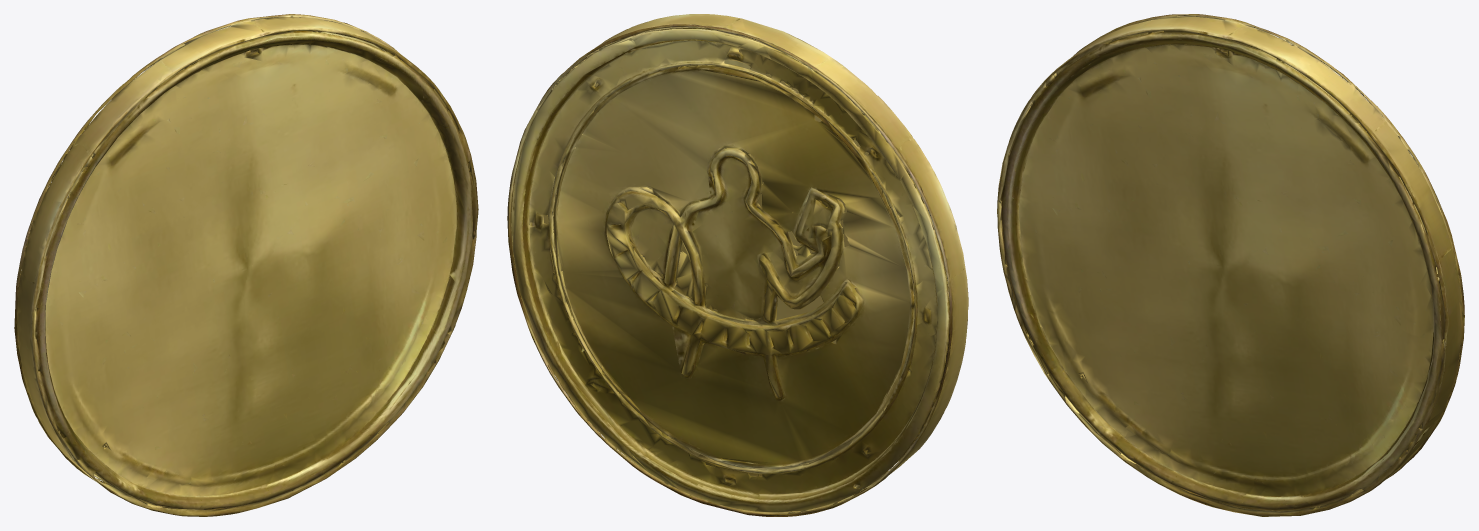
File: coin.glb
The picture shows the model from 3 angles, left to right: view 1: azimuth 30°, elevation 25°; view 2: azimuth 150°, elevation 25°; view 3: azimuth 330°, elevation 25°; orthographic projection.
Visible parts, largest first — view 1: geometry_0; view 2: geometry_0; view 3: geometry_0.
Part boxes in pixels (x1,y1,x2,y2): geometry_0: (14, 14, 478, 516); geometry_0: (507, 14, 968, 516); geometry_0: (997, 14, 1464, 516).
Bounding box in the file's own units: 0.9589 × 0.9846 × 0.0907.
1 material, 1 textured.
